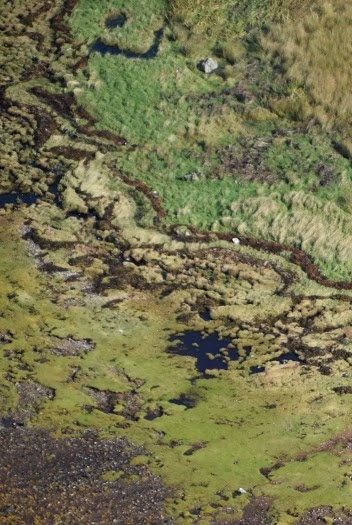white_in_green: (216, 220, 256, 256)
